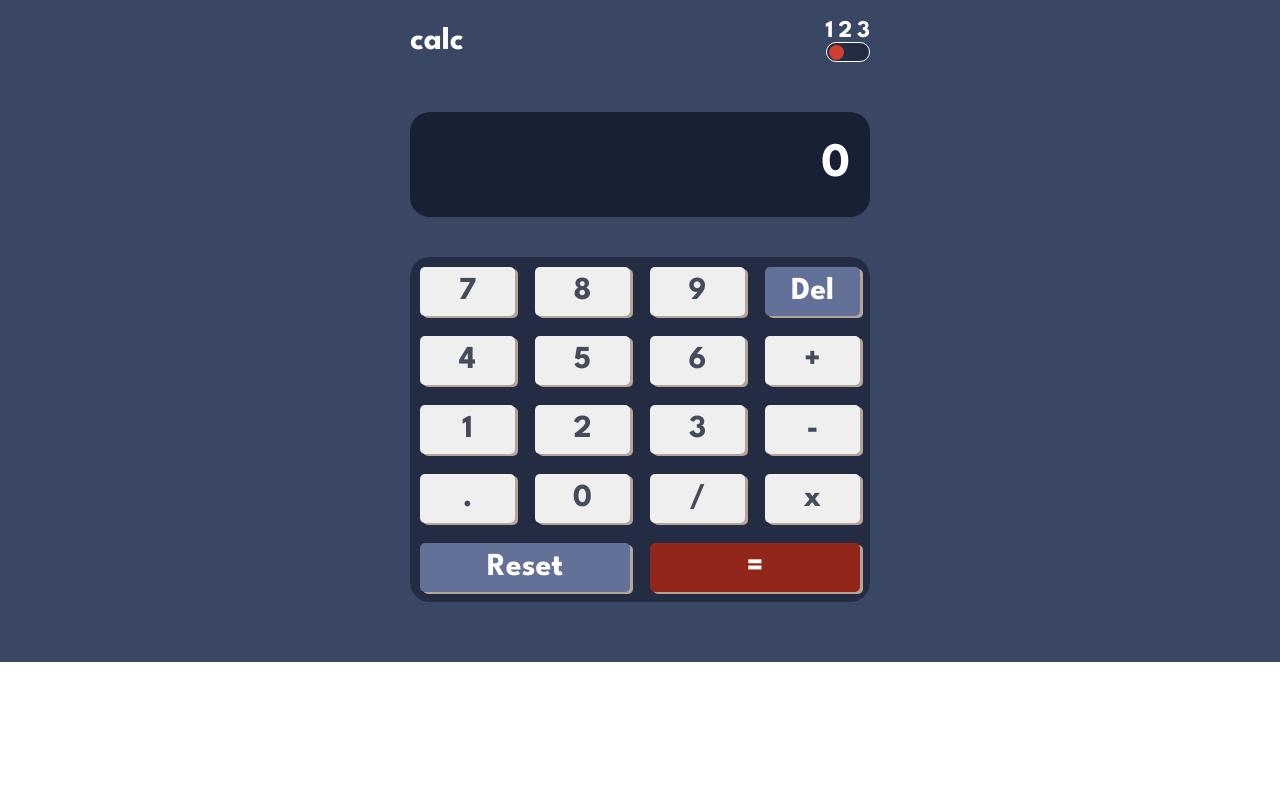
Scenario: Run tests on the calculator › test the reset button
Click the button "1" at point(468, 430), box [420,405,515,454]
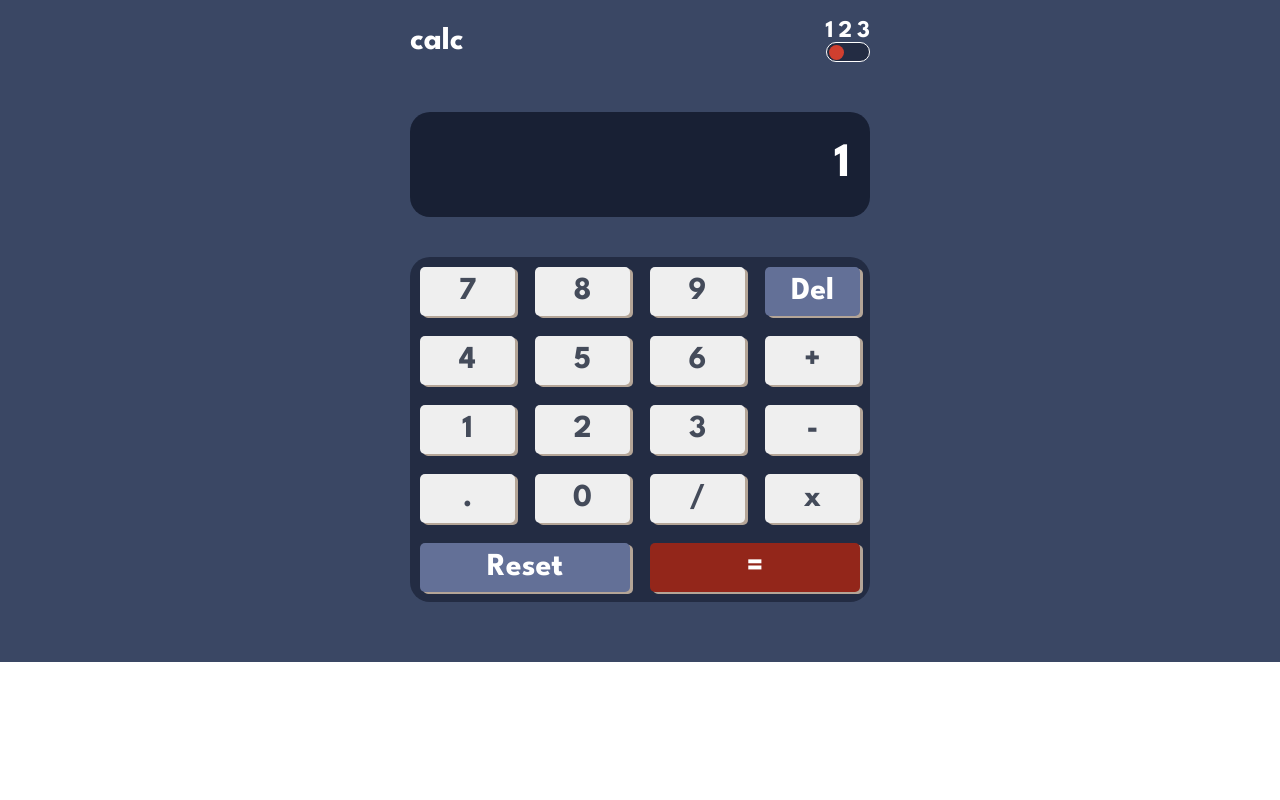
Click the button "7" at point(468, 292), box [420,267,515,316]
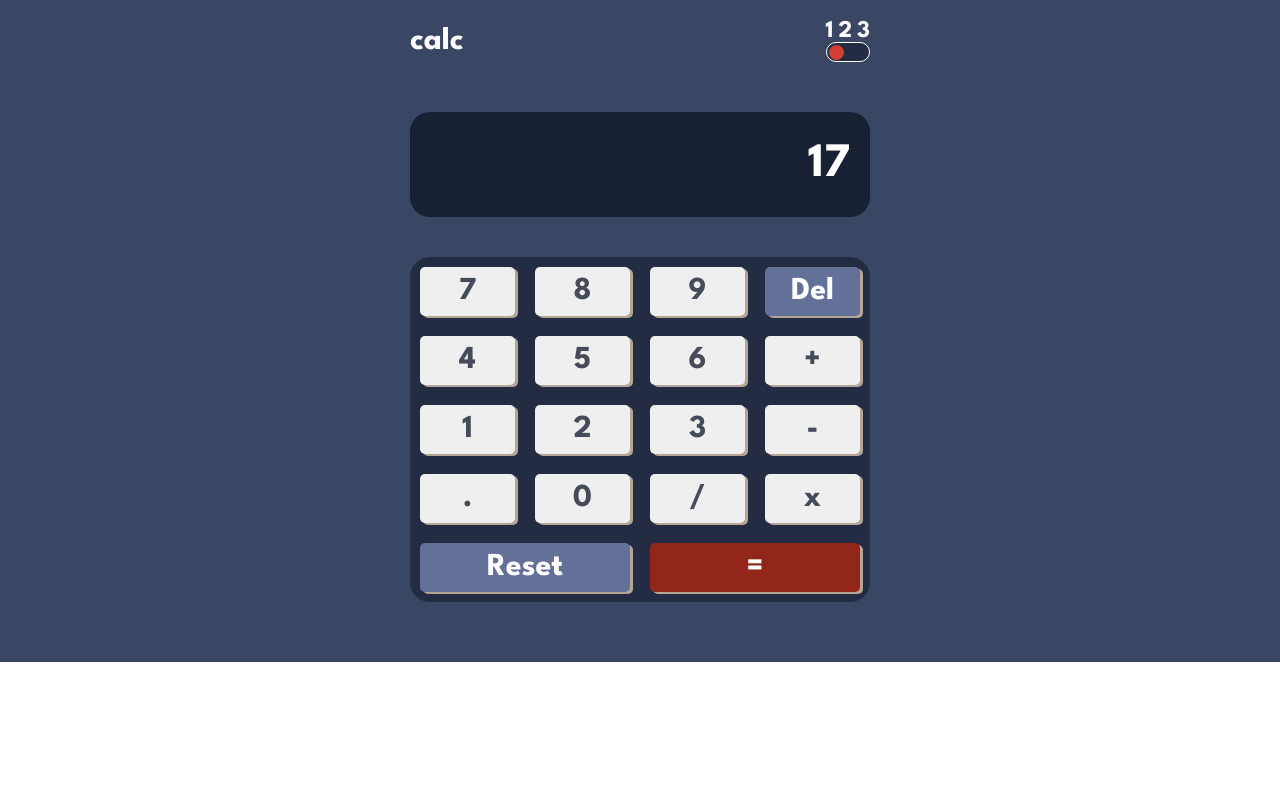
Click the button with class "reset" at point(525, 568), box [420,543,630,592]
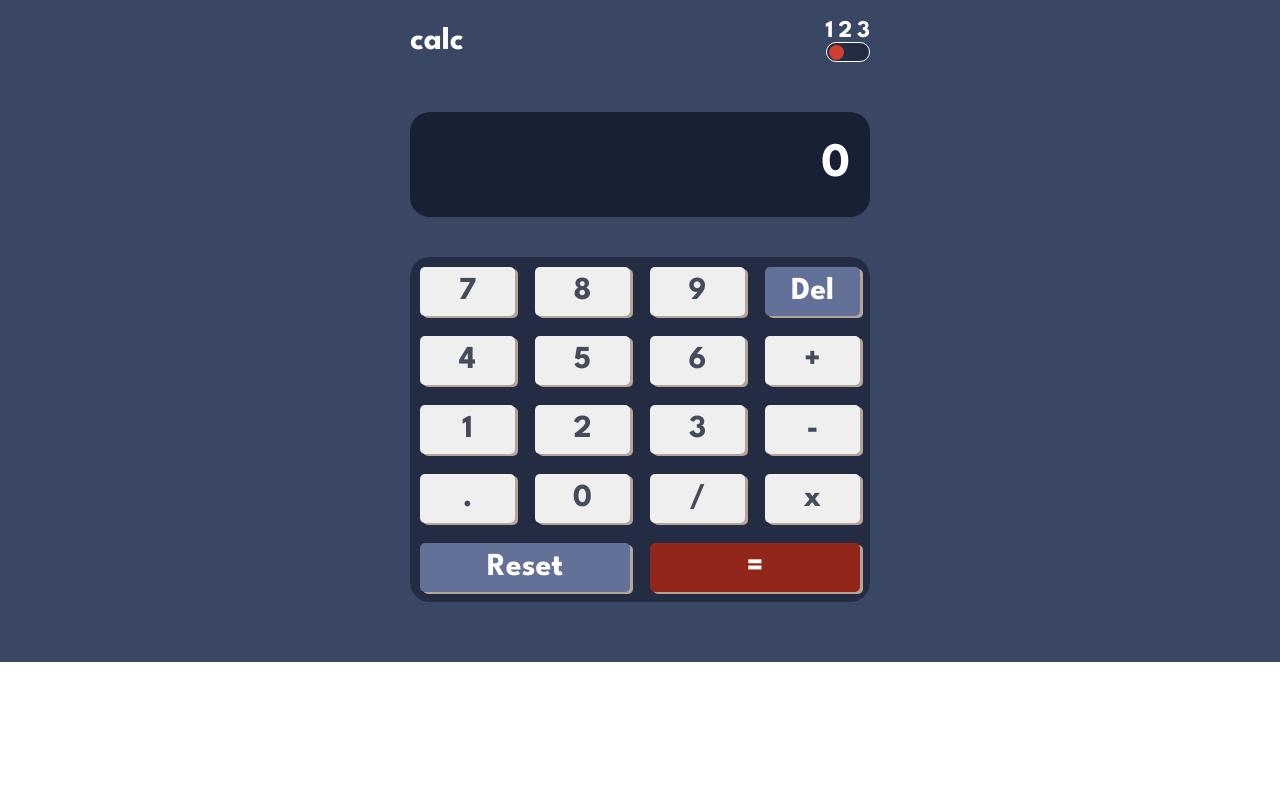
Check: the element showing "0" is shown, box [410,112,870,217]
